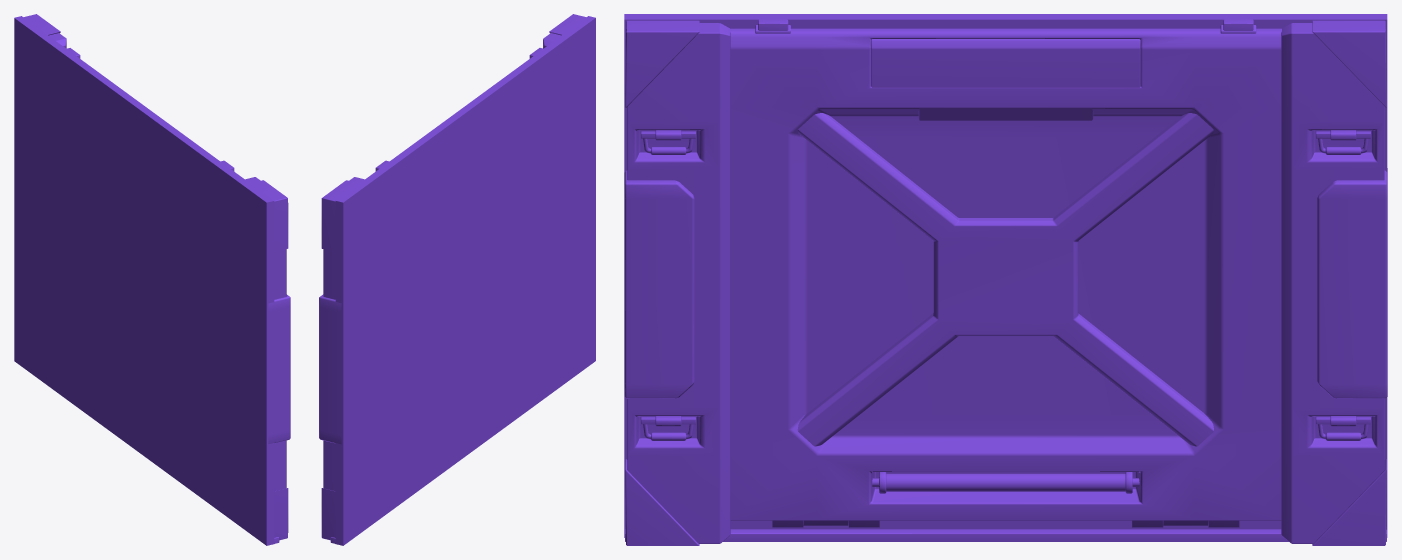
File: Wall01_3x4.fbx
3 renders of one model, left to right at view 1: azimuth 30°, elevation 25°; view 2: azimuth 150°, elevation 25°; view 3: azimuth 270°, elevation 25°, orthographic. The views are drawn at different scales.
Visible parts, largest first — view 1: SM_Wall01_3x4; view 2: SM_Wall01_3x4; view 3: SM_Wall01_3x4.
Part boxes in pixels (x1=…): SM_Wall01_3x4: x1=14, y1=14, x2=290, y2=545; SM_Wall01_3x4: x1=319, y1=14, x2=595, y2=545; SM_Wall01_3x4: x1=624, y1=14, x2=1387, y2=545.
Size of the model in its own units: 0.2276 by 3 by 4.
